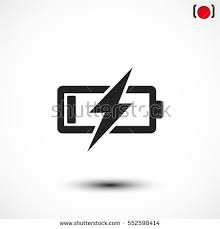charging sign: (49, 57, 176, 151)
